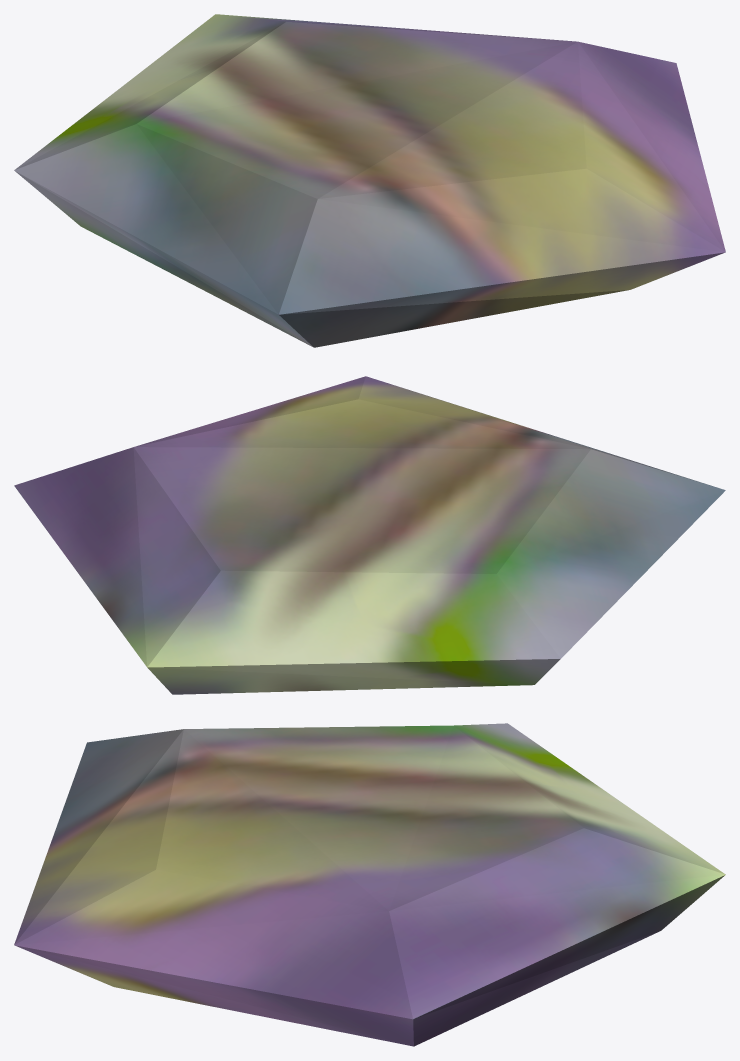
File: PlateTree_1_Plate_6.gltf
3 renders of one model, top to bottom at view 1: azimuth 30°, elevation 25°; view 2: azimuth 150°, elevation 25°; view 3: azimuth 270°, elevation 25°, orthographic. The views are drawn at different scales.
Parts seen in each view (by area): view 1: PlateTree_1_Plate_6; view 2: PlateTree_1_Plate_6; view 3: PlateTree_1_Plate_6.
Part boxes in pixels (x1,y1,x2,y2): PlateTree_1_Plate_6: [14, 14, 725, 347]; PlateTree_1_Plate_6: [14, 376, 725, 694]; PlateTree_1_Plate_6: [14, 723, 725, 1046].
Bounding box in the file's own units: 1.45 × 0.3098 × 1.51.
1 material, 1 textured.
